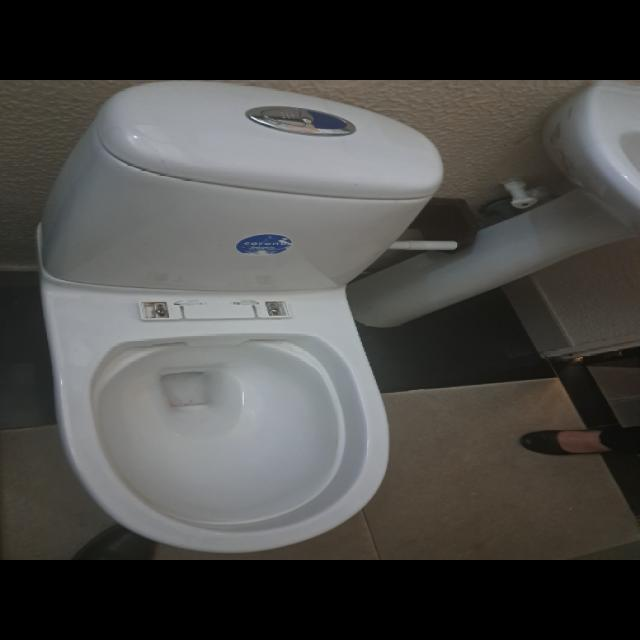toilet: (3, 77, 457, 566)
